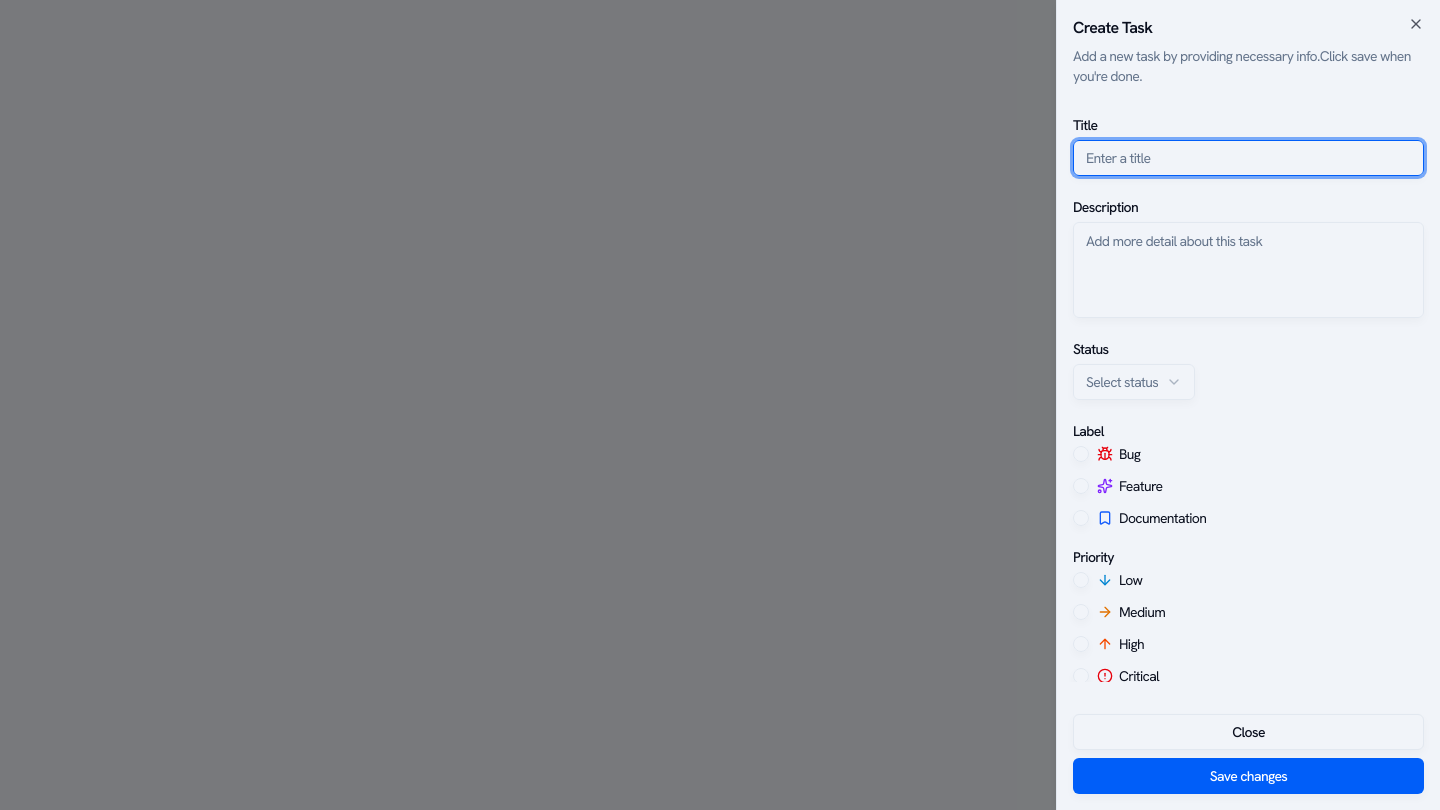
Test: TasksMutateDrawer › offers only active statuses when creating from Active Tasks
This screenshot has width=1440, height=810.
Step 1. Click the dropdown labelled "Select status" → [1134, 382], box [1073,364,1195,400]
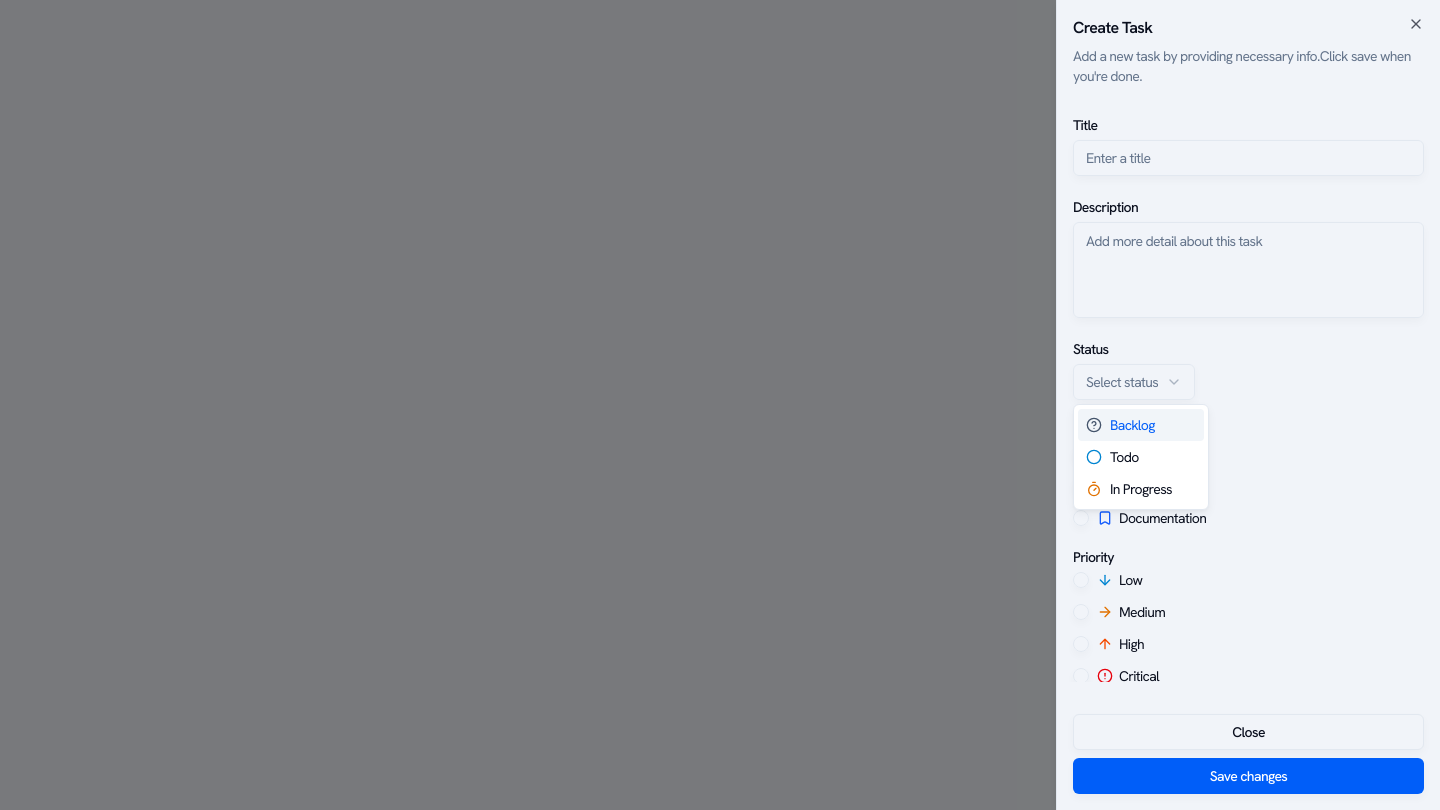
expect the option "Todo" is shown: met, box [1086,448,1139,466]
